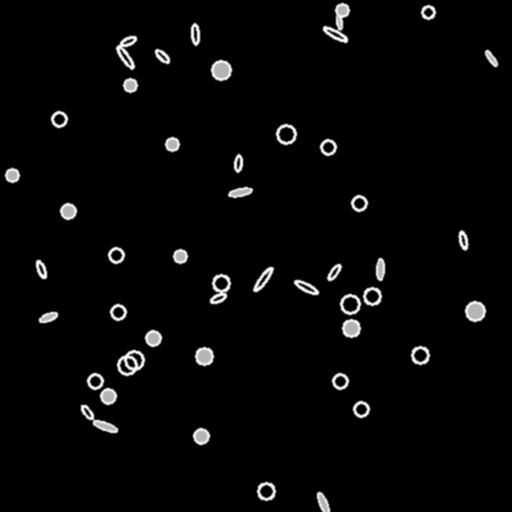pseudomonas: (252, 266, 274, 292), (321, 25, 349, 43), (115, 45, 135, 69), (294, 278, 318, 296), (93, 419, 117, 433), (315, 491, 331, 512), (326, 262, 342, 282), (153, 48, 171, 64), (228, 186, 252, 198), (483, 49, 499, 67), (34, 259, 48, 279), (209, 291, 227, 305), (119, 34, 137, 48), (457, 230, 469, 250), (80, 404, 94, 420), (39, 311, 57, 323), (376, 258, 384, 280), (191, 23, 199, 45), (234, 155, 242, 171), (335, 14, 343, 30)
synechocystis: (118, 356, 136, 374), (125, 351, 143, 369), (212, 61, 230, 79), (466, 302, 484, 320), (277, 125, 295, 143), (341, 295, 359, 313), (258, 483, 274, 499), (412, 347, 428, 363), (343, 320, 359, 336), (364, 288, 380, 304), (196, 348, 212, 364), (213, 275, 229, 291), (52, 112, 66, 126), (61, 204, 75, 218), (354, 402, 368, 416), (146, 331, 160, 345), (109, 248, 123, 262), (101, 389, 115, 403), (352, 196, 366, 210), (88, 374, 102, 388), (321, 140, 335, 154), (194, 429, 208, 443), (111, 305, 125, 319), (333, 374, 347, 388), (336, 4, 348, 16), (6, 169, 18, 181), (124, 79, 136, 91), (174, 250, 186, 262), (166, 138, 178, 150), (422, 6, 434, 18)
